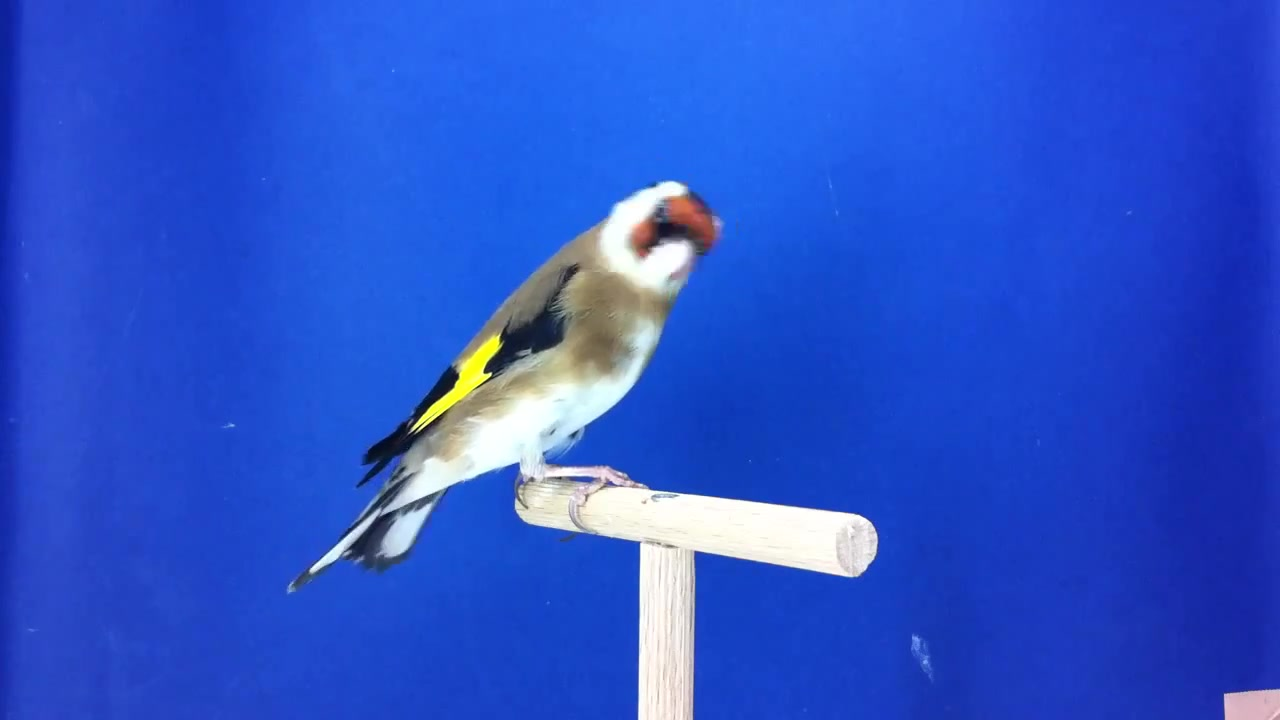bird: (287, 183, 729, 597)
